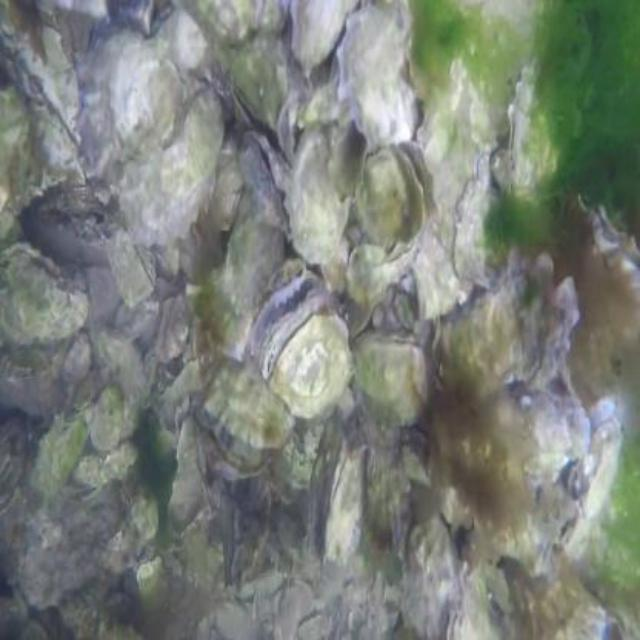Oyster-Closed: (82, 11, 207, 187), (443, 258, 579, 392), (0, 36, 82, 239), (124, 89, 226, 245), (339, 0, 419, 147), (0, 242, 89, 350), (287, 124, 349, 264), (356, 329, 429, 443), (509, 58, 569, 196), (579, 194, 640, 310), (225, 192, 284, 309), (188, 262, 258, 356), (36, 406, 93, 496), (240, 135, 290, 233), (290, 0, 361, 67), (107, 236, 156, 308), (91, 387, 123, 454), (159, 297, 186, 359), (233, 88, 264, 133), (63, 334, 91, 382), (279, 94, 296, 161), (4, 352, 52, 375), (73, 375, 94, 412)
Oyster-Open: (251, 273, 353, 419), (208, 347, 293, 473), (349, 142, 442, 249), (66, 461, 103, 503)
